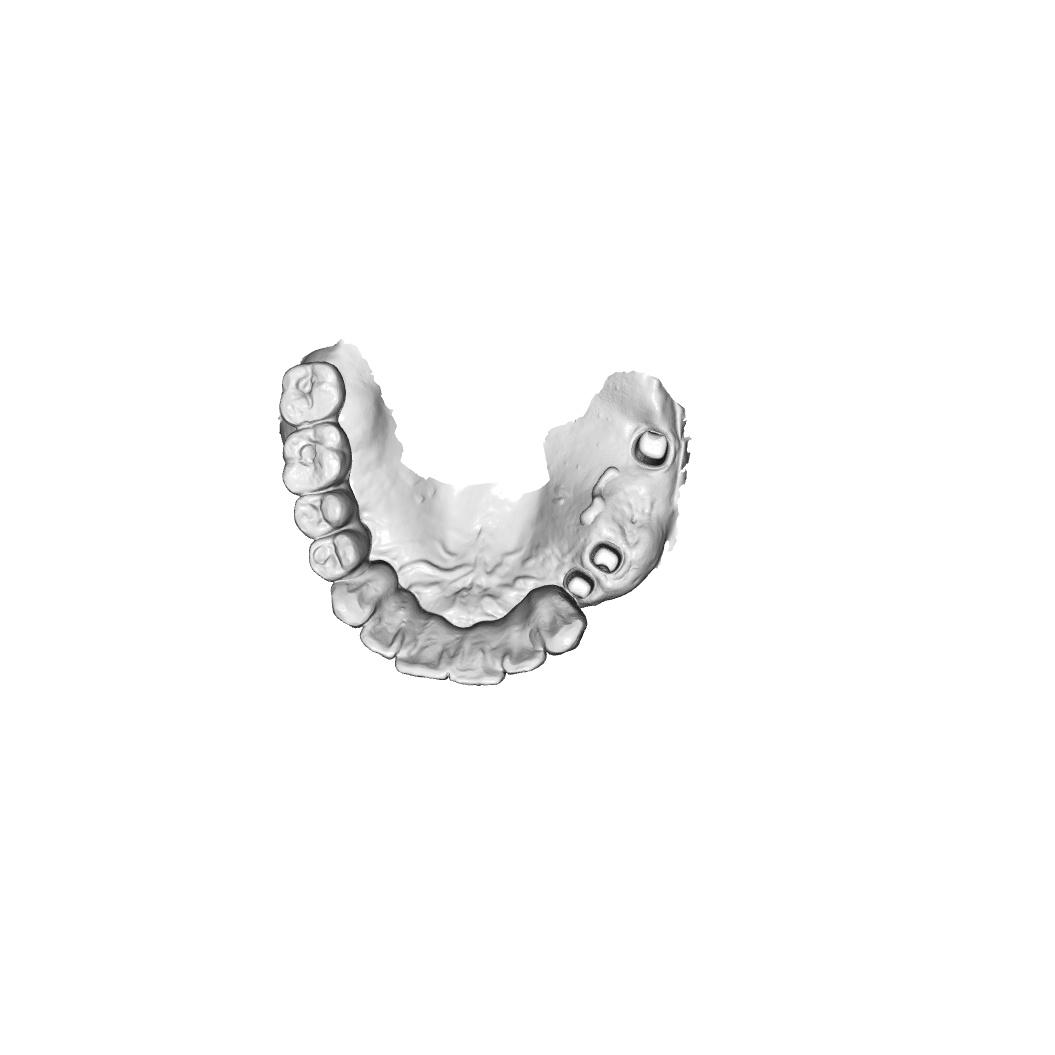abutment: (629, 428, 672, 470), (589, 540, 625, 575), (562, 566, 596, 600)
canine: (330, 560, 399, 629), (534, 584, 588, 656)
incisor: (394, 613, 449, 682), (449, 620, 506, 686), (500, 626, 547, 676), (359, 616, 405, 662)
molar: (281, 421, 353, 496), (278, 360, 347, 429)
premolar: (308, 526, 372, 583), (292, 487, 360, 540)
